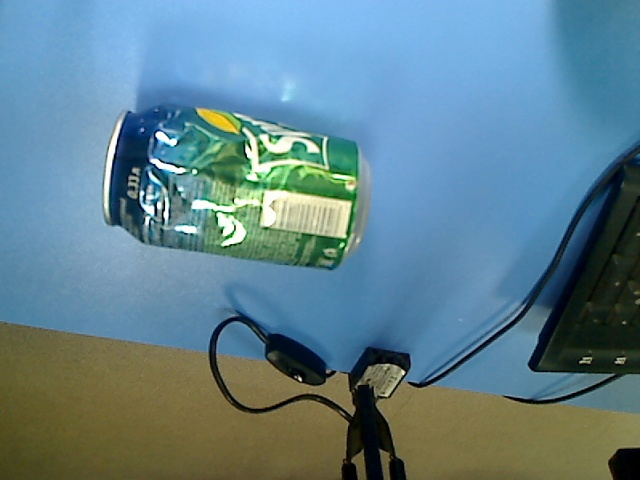can: (98, 102, 376, 273)
